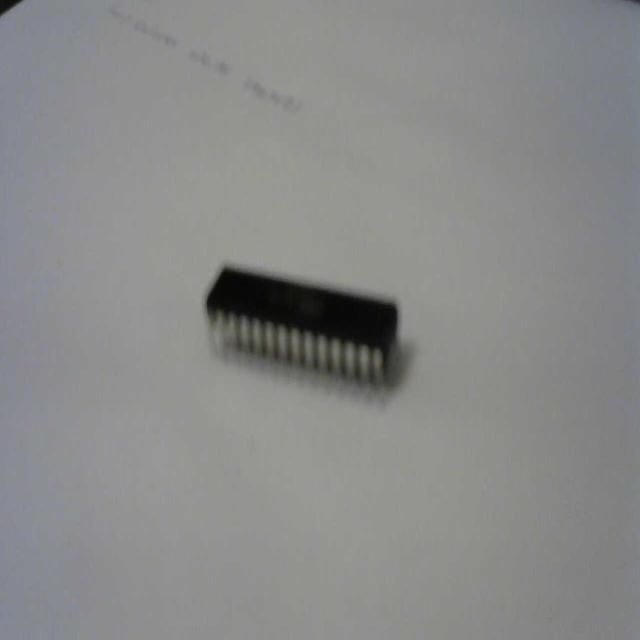atmega: (202, 259, 402, 392)
